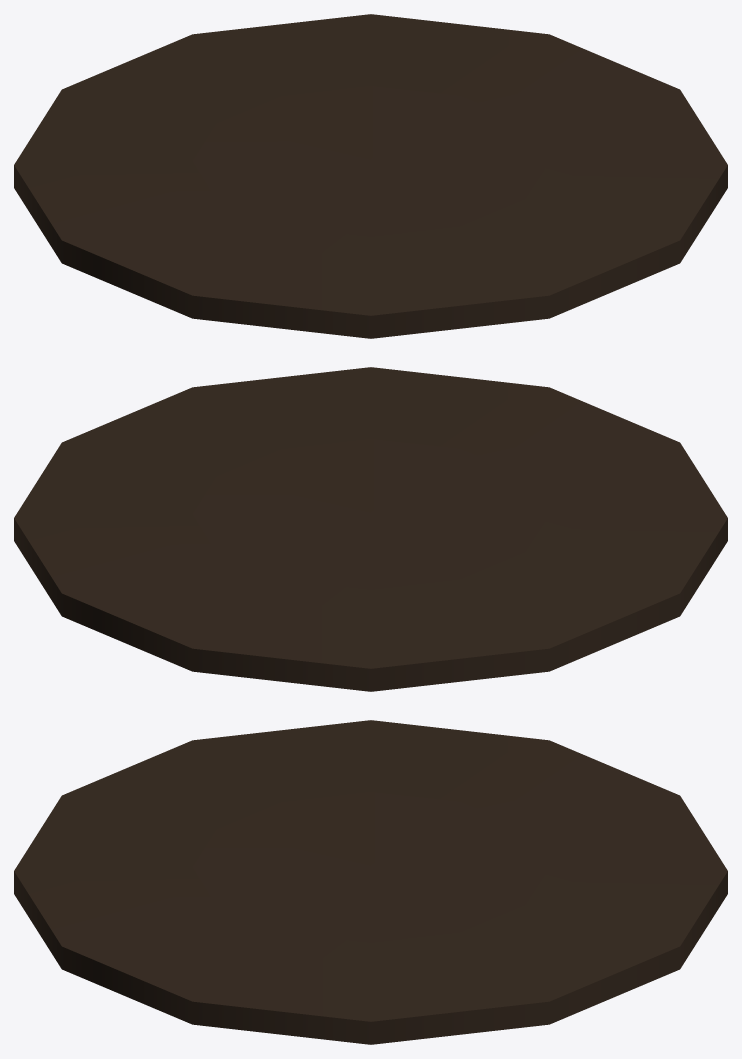
Rendered from tz12_ablator.obj.
3 views of the same model, one above another, from view 1: azimuth 30°, elevation 25°; view 2: azimuth 150°, elevation 25°; view 3: azimuth 270°, elevation 25° (orthographic).
Visible parts, largest first — view 1: tz12_ablator; view 2: tz12_ablator; view 3: tz12_ablator.
Boxes of the visible parts, x1,y1,x2,y2 form: tz12_ablator: (14,14,727,338); tz12_ablator: (14,367,727,691); tz12_ablator: (14,720,727,1044).
Size of the model in its own units: 4.5 by 0.195 by 4.5.
